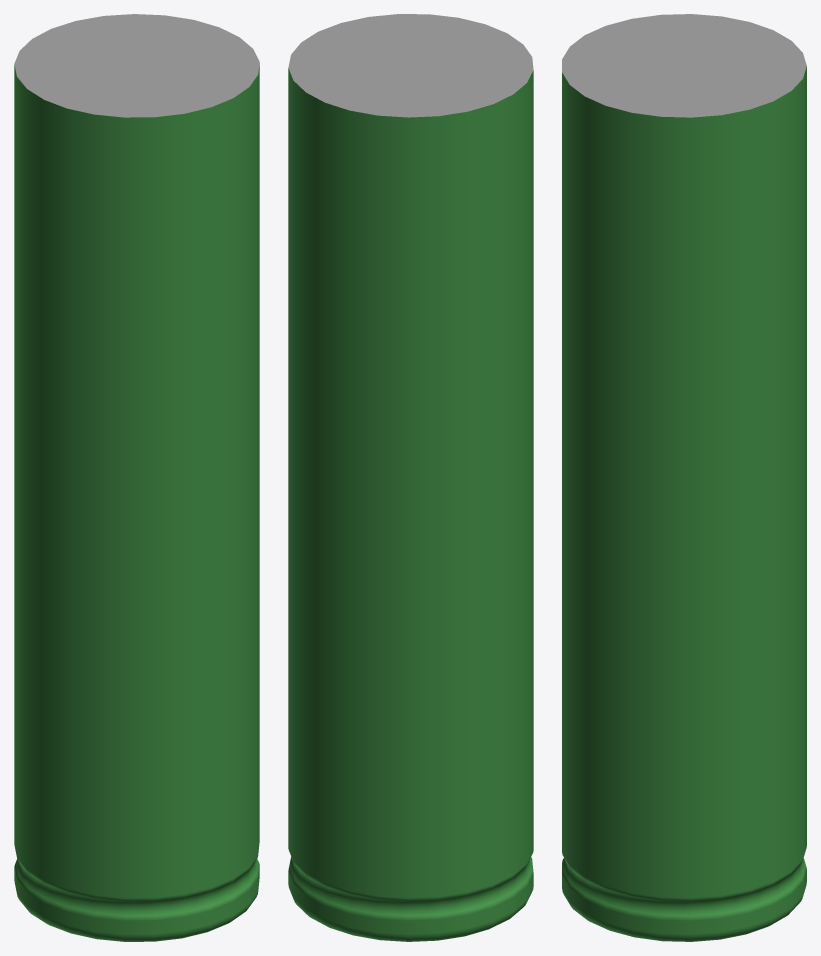
3 views of the same model, side by side, from view 1: azimuth 30°, elevation 25°; view 2: azimuth 150°, elevation 25°; view 3: azimuth 270°, elevation 25° (orthographic).
Parts seen in each view (by area): view 1: Corps1; view 2: Corps1; view 3: Corps1.
Part boxes in pixels (box(x1,y1,x2,y2)): Corps1: box(14, 14, 259, 941); Corps1: box(288, 14, 533, 941); Corps1: box(562, 14, 806, 941).
Size of the model in its own units: 1.8 by 6.7 by 1.79.
